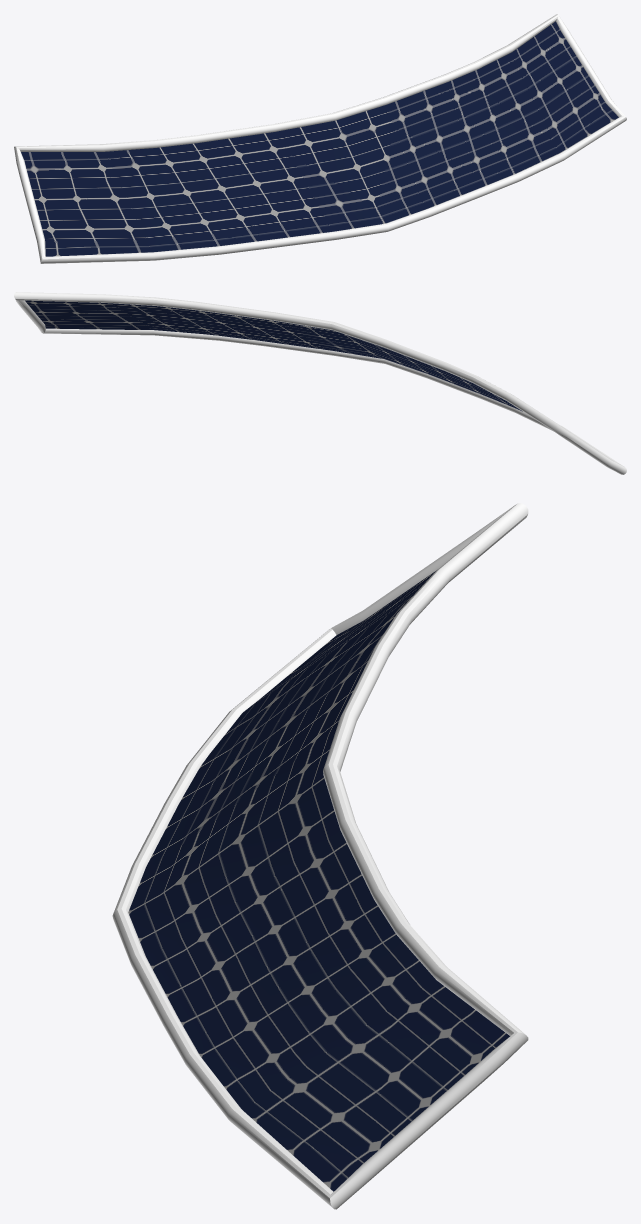
Rendered from Solar_Base_Lobby_Principal.fbx.
The picture shows the model from 3 angles, top to bottom: view 1: azimuth 30°, elevation 25°; view 2: azimuth 150°, elevation 25°; view 3: azimuth 270°, elevation 25°; orthographic projection. The views are drawn at different scales.
Visible parts, largest first — view 1: Solar Meio; view 2: Solar Meio; view 3: Solar Meio.
Part boxes in pixels (x1=…): Solar Meio: x1=14, y1=14, x2=626, y2=263; Solar Meio: x1=14, y1=292, x2=626, y2=474; Solar Meio: x1=112, y1=503, x2=528, y2=1209.
Bounding box in the file's own units: 2993 × 393 × 920.
